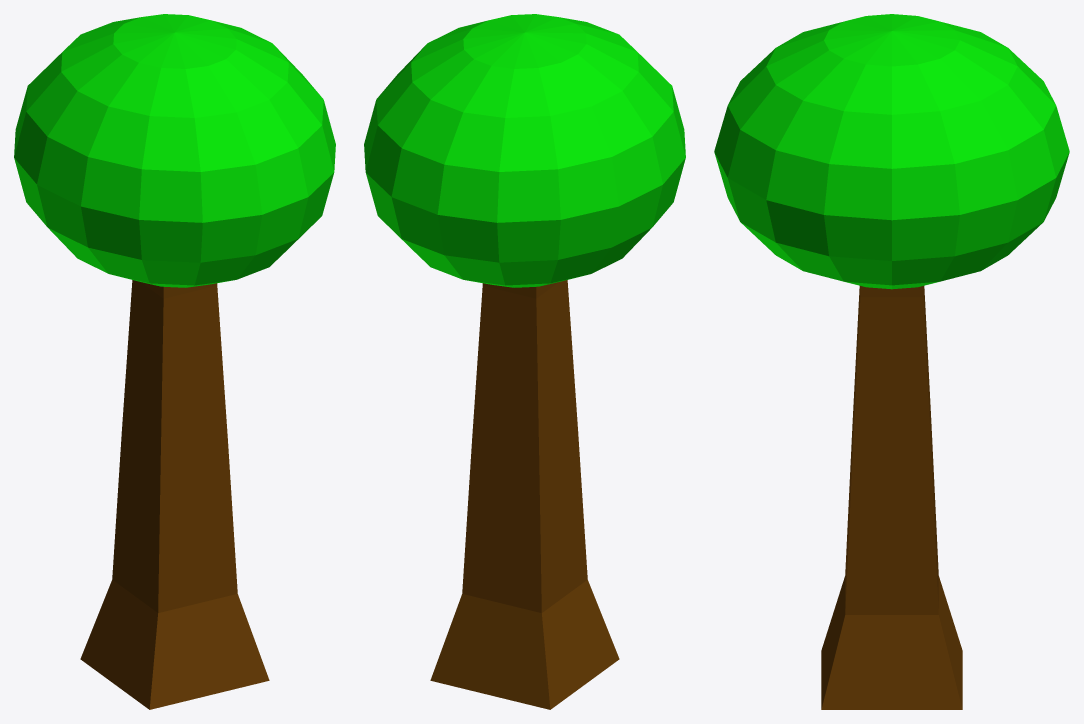
File: tree.fbx
3 renders of one model, left to right at view 1: azimuth 30°, elevation 25°; view 2: azimuth 150°, elevation 25°; view 3: azimuth 270°, elevation 25°, orthographic.
Visible parts, largest first — view 1: Sphere, Cube; view 2: Sphere, Cube; view 3: Sphere, Cube.
Part boxes in pixels (bbox=[...]): Sphere: bbox=[14, 14, 335, 287]; Cube: bbox=[80, 280, 269, 709]; Sphere: bbox=[364, 14, 685, 287]; Cube: bbox=[430, 280, 619, 709]; Sphere: bbox=[714, 14, 1069, 289]; Cube: bbox=[821, 286, 962, 709].
Size of the model in its own units: 694 by 1530 by 760.
